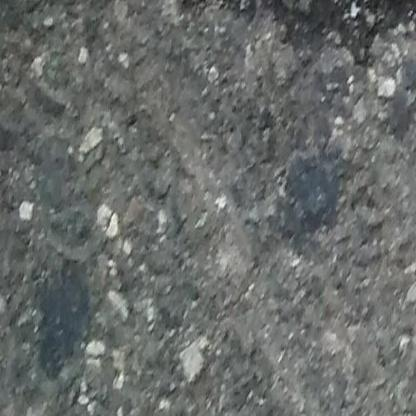Cracks: (157, 0, 416, 73)
